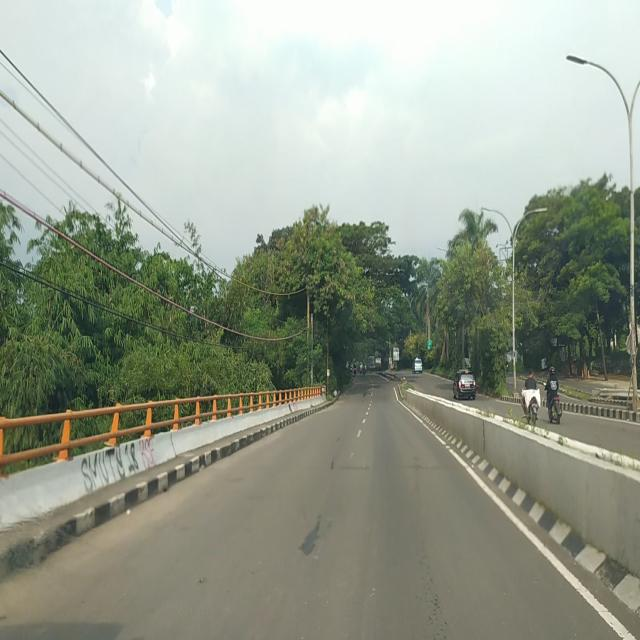Sewer Cover: (330, 463, 370, 472), (399, 462, 444, 468)
